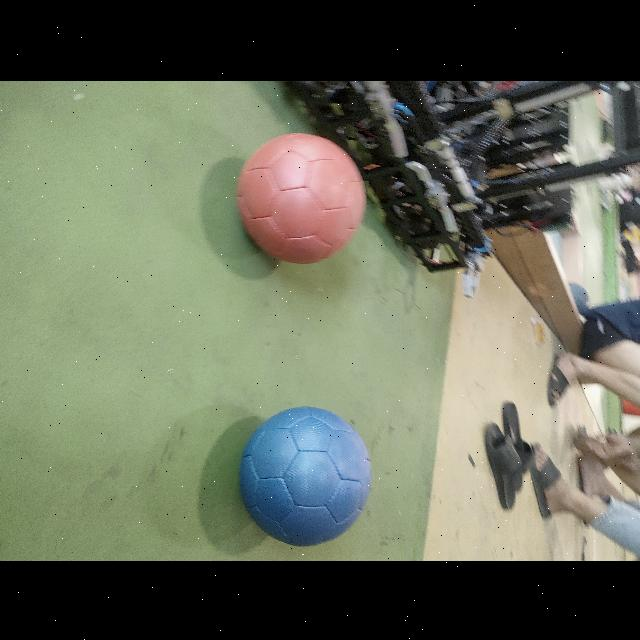B: (239, 406, 371, 545)
R: (236, 132, 366, 262)
